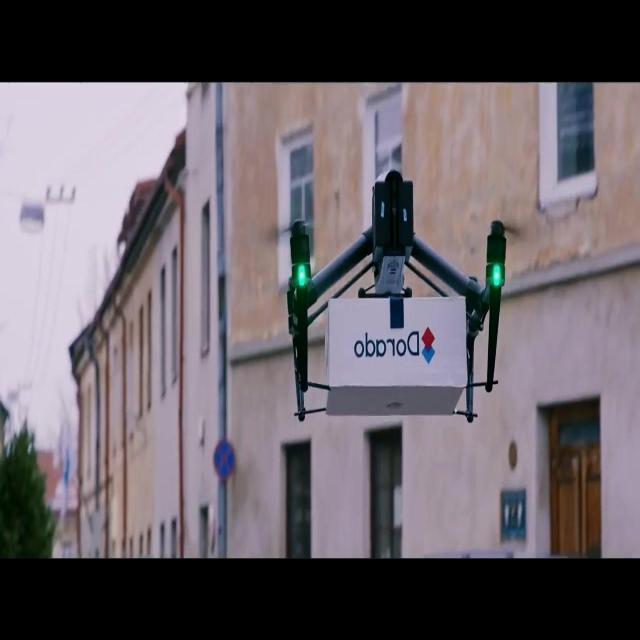drone: (287, 166, 508, 422)
